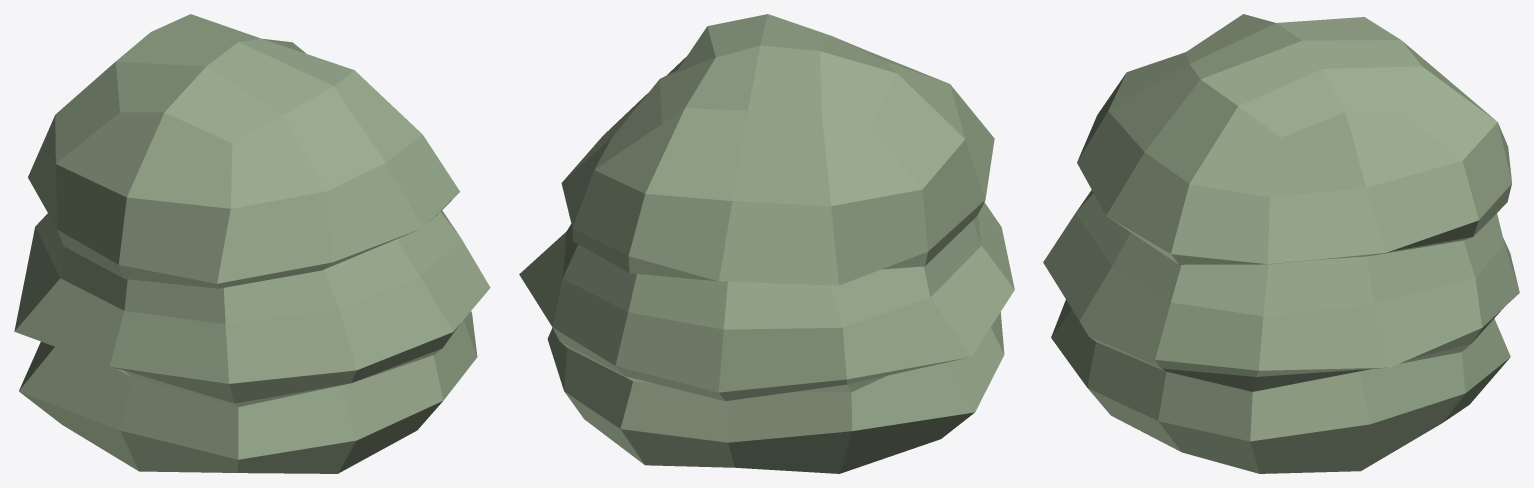
File: model_bush-2.glb
3 views of the same model, side by side, from view 1: azimuth 30°, elevation 25°; view 2: azimuth 150°, elevation 25°; view 3: azimuth 270°, elevation 25° (orthographic). The views are drawn at different scales.
Parts seen in each view (by area): view 1: Bush_2; view 2: Bush_2; view 3: Bush_2.
Boxes of the visible parts, bbox=[...] form: Bush_2: bbox=[14, 14, 490, 473]; Bush_2: bbox=[519, 14, 1014, 473]; Bush_2: bbox=[1043, 14, 1519, 473].
Size of the model in its own units: 1.35 by 1.11 by 1.33.
